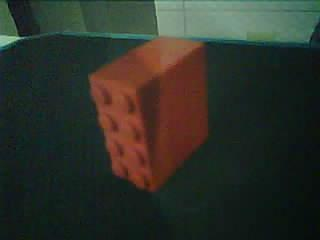lego: (88, 32, 211, 195)
